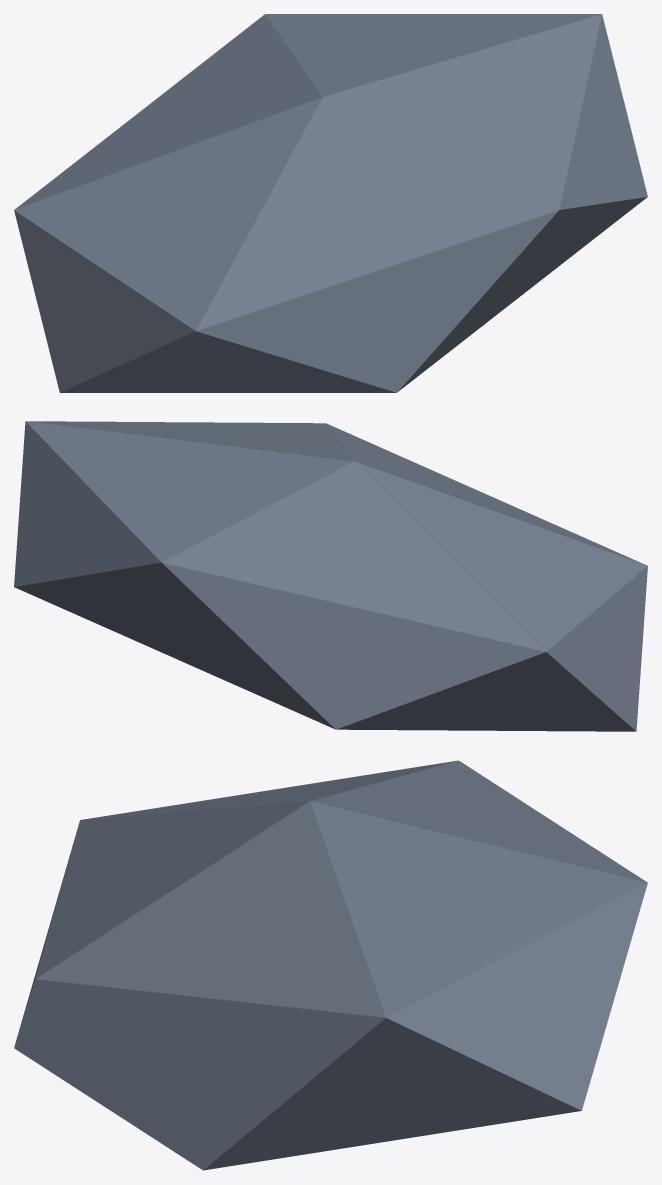
File: EXTG_NorthLooseStone_01.glb
The picture shows the model from 3 angles, top to bottom: view 1: azimuth 30°, elevation 25°; view 2: azimuth 150°, elevation 25°; view 3: azimuth 270°, elevation 25°; orthographic projection. The views are drawn at different scales.
Visible parts, largest first — view 1: EXTG_NorthLooseStone_01; view 2: EXTG_NorthLooseStone_01; view 3: EXTG_NorthLooseStone_01.
Part boxes in pixels (x1,y1,x2,y2): EXTG_NorthLooseStone_01: [14, 14, 647, 392]; EXTG_NorthLooseStone_01: [14, 421, 647, 731]; EXTG_NorthLooseStone_01: [14, 760, 647, 1170].
Size of the model in its own units: 0.8191 by 0.3112 by 0.5814.
